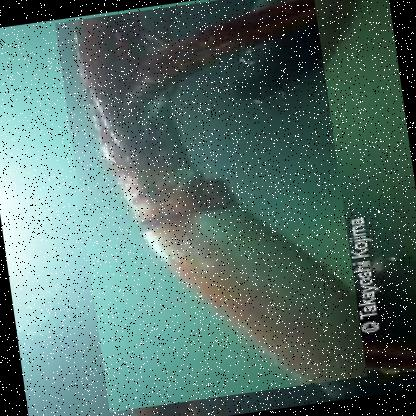colossal_squid: (53, 0, 367, 412)
